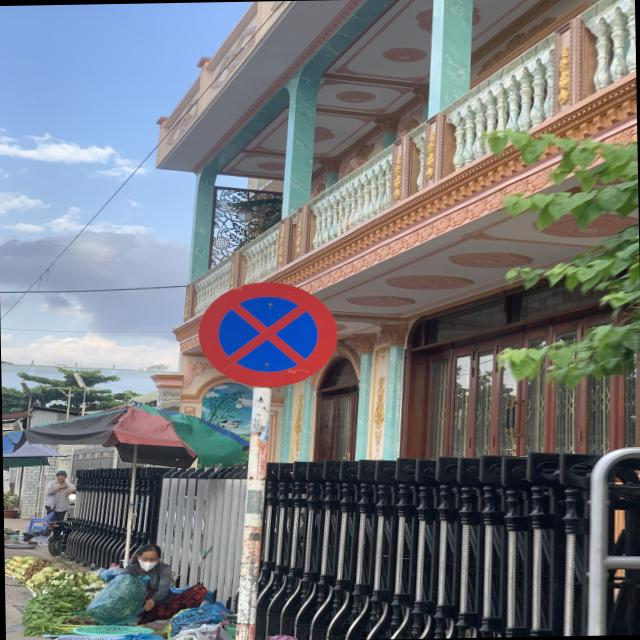Cam_Dung_Va_Dau_Xe: (200, 281, 338, 388)
